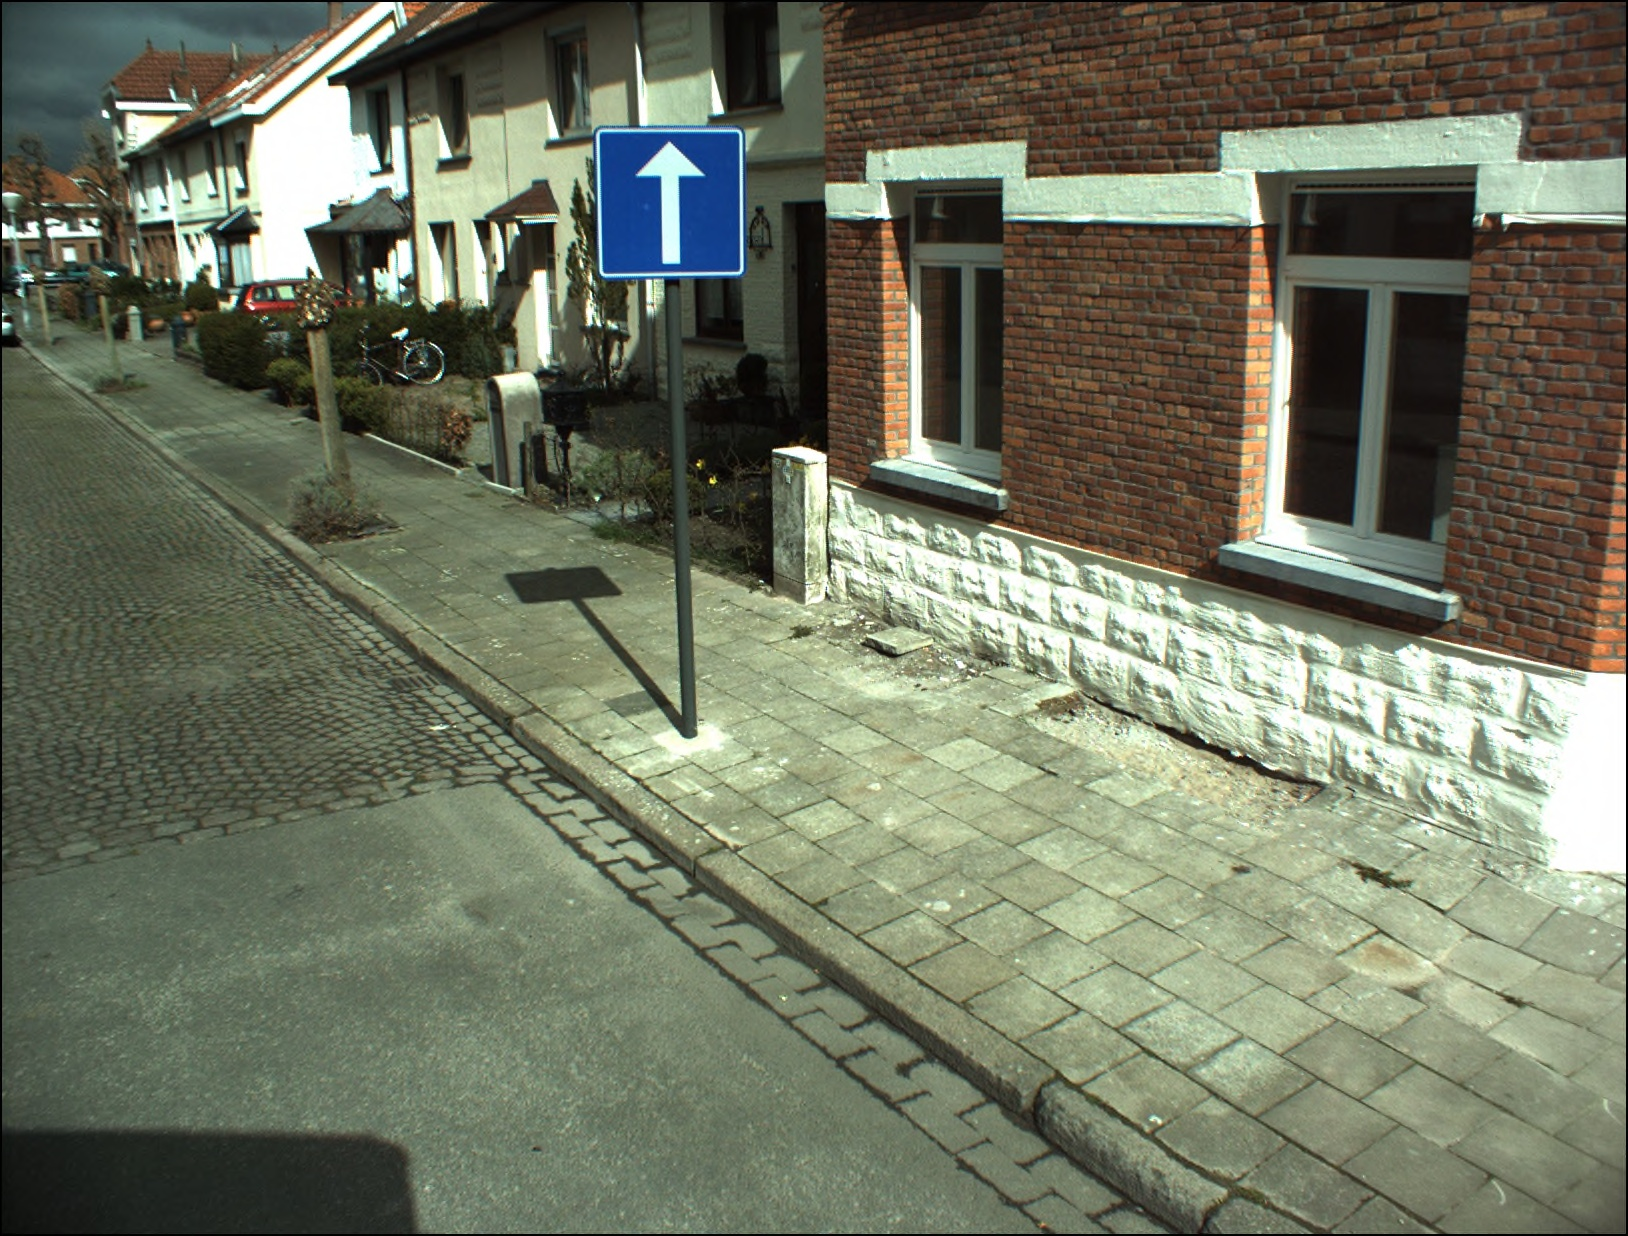oneway: (598, 129, 740, 273)
